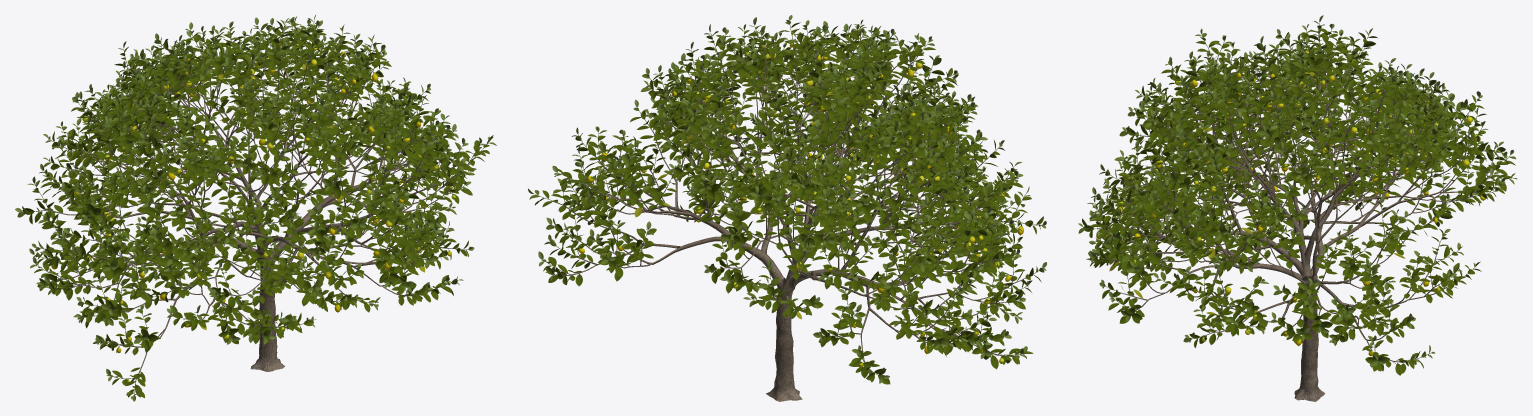
Rendered from lemon-tree.glb.
The picture shows the model from 3 angles, left to right: view 1: azimuth 30°, elevation 25°; view 2: azimuth 150°, elevation 25°; view 3: azimuth 270°, elevation 25°; orthographic projection. The views are drawn at different scales.
Visible parts, largest first — view 1: Citrus_x_limon_HD_Citrus limon leaf 01_0, Citrus_x_limon_HD_Citrus limon leaf 01_1_0, Citrus_x_limon_HD_Citrus bark_0, Citrus_x_limon_HD_Citrus limon leaf 02_0, Citrus_x_limon_HD_Citrus limon leaf 03_0, Citrus_x_limon_HD_Citrus limon twig_0, Citrus_x_limon_HD_Lemon 2 LOD2_0, Citrus_x_limon_HD_Lemon 1 LOD2_0; view 2: Citrus_x_limon_HD_Citrus limon leaf 01_0, Citrus_x_limon_HD_Citrus bark_0, Citrus_x_limon_HD_Citrus limon leaf 01_1_0, Citrus_x_limon_HD_Citrus limon leaf 02_0, Citrus_x_limon_HD_Citrus limon leaf 03_0, Citrus_x_limon_HD_Citrus limon twig_0, Citrus_x_limon_HD_Lemon 1 LOD2_0, Citrus_x_limon_HD_Lemon 2 LOD2_0; view 3: Citrus_x_limon_HD_Citrus limon leaf 01_0, Citrus_x_limon_HD_Citrus bark_0, Citrus_x_limon_HD_Citrus limon leaf 01_1_0, Citrus_x_limon_HD_Citrus limon leaf 02_0, Citrus_x_limon_HD_Citrus limon twig_0, Citrus_x_limon_HD_Citrus limon leaf 03_0, Citrus_x_limon_HD_Lemon 2 LOD2_0, Citrus_x_limon_HD_Lemon 1 LOD2_0, Citrus_x_limon_HD_Citrus limon leaf 01 y1_0.
Part boxes in pixels (left/top/right/bottom): Citrus_x_limon_HD_Citrus limon leaf 01_0: left=22, top=27, right=489, bottom=398; Citrus_x_limon_HD_Citrus limon leaf 01_1_0: left=15, top=15, right=493, bottom=399; Citrus_x_limon_HD_Citrus bark_0: left=48, top=53, right=469, bottom=379; Citrus_x_limon_HD_Citrus limon leaf 02_0: left=22, top=19, right=493, bottom=395; Citrus_x_limon_HD_Citrus limon leaf 03_0: left=17, top=22, right=496, bottom=401; Citrus_x_limon_HD_Citrus limon twig_0: left=23, top=21, right=490, bottom=395; Citrus_x_limon_HD_Lemon 2 LOD2_0: left=51, top=46, right=451, bottom=352; Citrus_x_limon_HD_Lemon 1 LOD2_0: left=82, top=43, right=456, bottom=382; Citrus_x_limon_HD_Citrus limon leaf 01_0: left=535, top=28, right=1041, bottom=384; Citrus_x_limon_HD_Citrus bark_0: left=566, top=52, right=1013, bottom=401; Citrus_x_limon_HD_Citrus limon leaf 01_1_0: left=528, top=15, right=1046, bottom=378; Citrus_x_limon_HD_Citrus limon leaf 02_0: left=532, top=22, right=1043, bottom=375; Citrus_x_limon_HD_Citrus limon leaf 03_0: left=534, top=21, right=1044, bottom=383; Citrus_x_limon_HD_Citrus limon twig_0: left=534, top=22, right=1041, bottom=377; Citrus_x_limon_HD_Lemon 1 LOD2_0: left=604, top=52, right=1003, bottom=363; Citrus_x_limon_HD_Lemon 2 LOD2_0: left=578, top=42, right=1023, bottom=367; Citrus_x_limon_HD_Citrus limon leaf 01_0: left=1083, top=28, right=1515, bottom=375; Citrus_x_limon_HD_Citrus bark_0: left=1110, top=52, right=1489, bottom=401; Citrus_x_limon_HD_Citrus limon leaf 01_1_0: left=1078, top=15, right=1517, bottom=364; Citrus_x_limon_HD_Citrus limon leaf 02_0: left=1082, top=25, right=1509, bottom=360; Citrus_x_limon_HD_Citrus limon twig_0: left=1083, top=23, right=1511, bottom=362; Citrus_x_limon_HD_Citrus limon leaf 03_0: left=1078, top=24, right=1516, bottom=366; Citrus_x_limon_HD_Lemon 2 LOD2_0: left=1096, top=59, right=1442, bottom=356; Citrus_x_limon_HD_Lemon 1 LOD2_0: left=1117, top=50, right=1485, bottom=341; Citrus_x_limon_HD_Citrus limon leaf 01 y1_0: left=1110, top=72, right=1405, bottom=315.
Bounding box in the file's own units: 3.56 × 2.76 × 3.24.
Materials: 11 (10 with a texture image).
